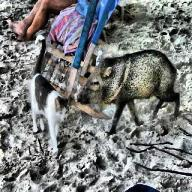boar: (74, 48, 181, 136)
